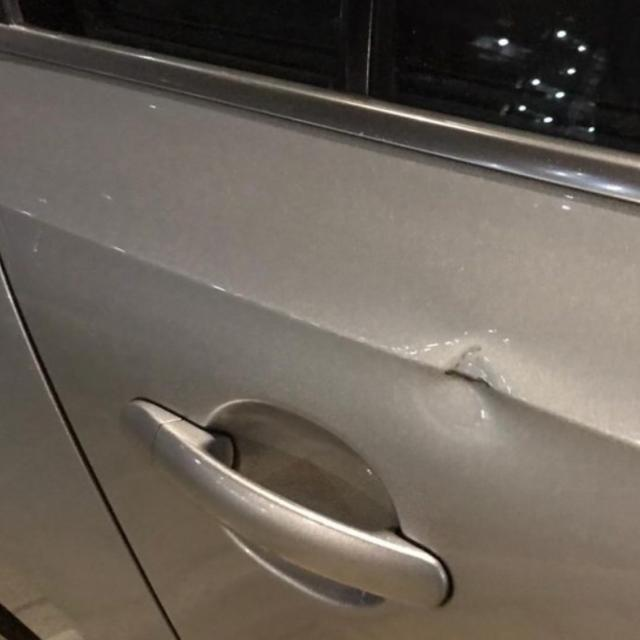dents: (403, 312, 532, 456)
